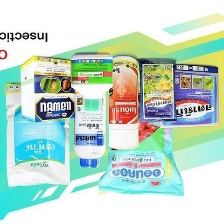insecticide: (96, 81, 188, 200), (2, 80, 74, 189), (154, 61, 221, 130), (16, 53, 79, 124), (70, 66, 110, 171), (106, 53, 142, 152), (135, 55, 181, 125), (67, 49, 116, 114)
